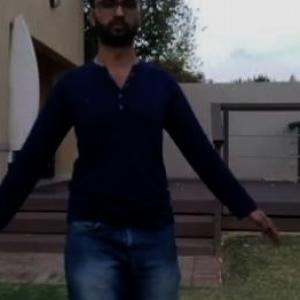land: (1, 19, 234, 299)
